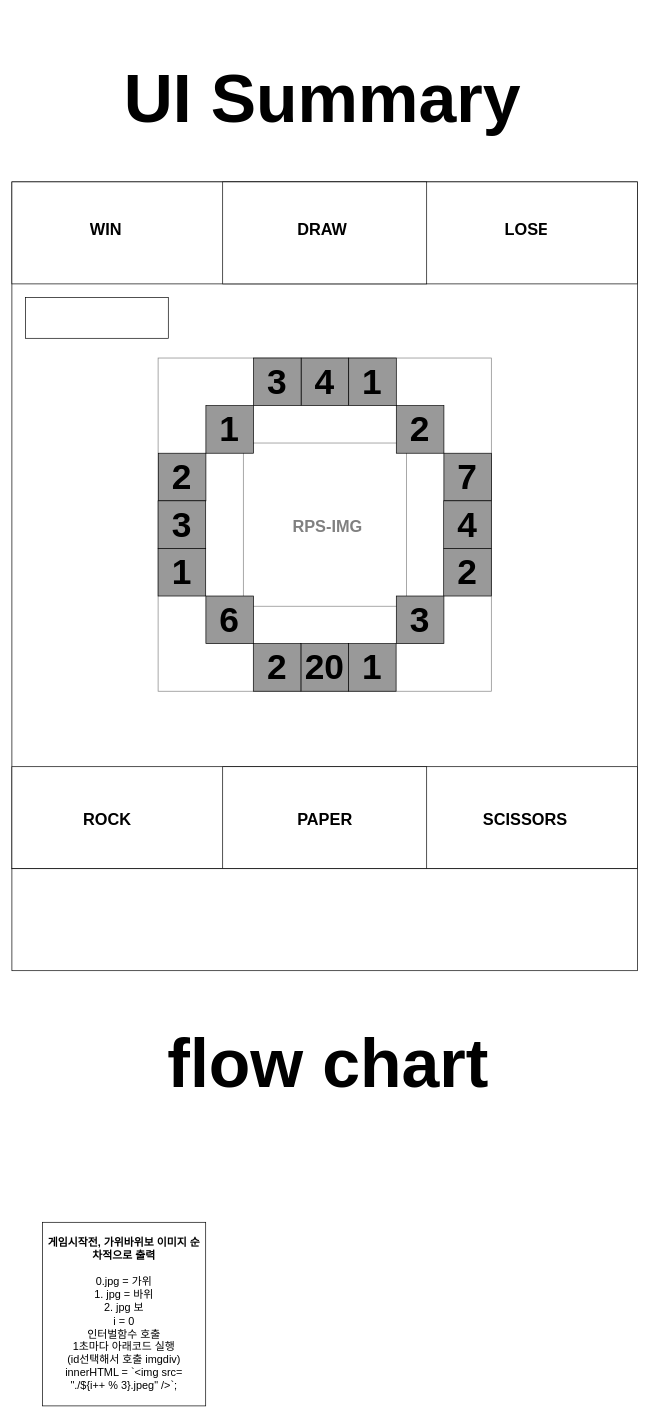
Image size: 649x1418. Some labels were removed from this diagram. Here are the shapes that lost their labels. From the top down, the centre of each, then its label:
At point 96,317: "CREDIT".
At point 324,919: "GAME START".
